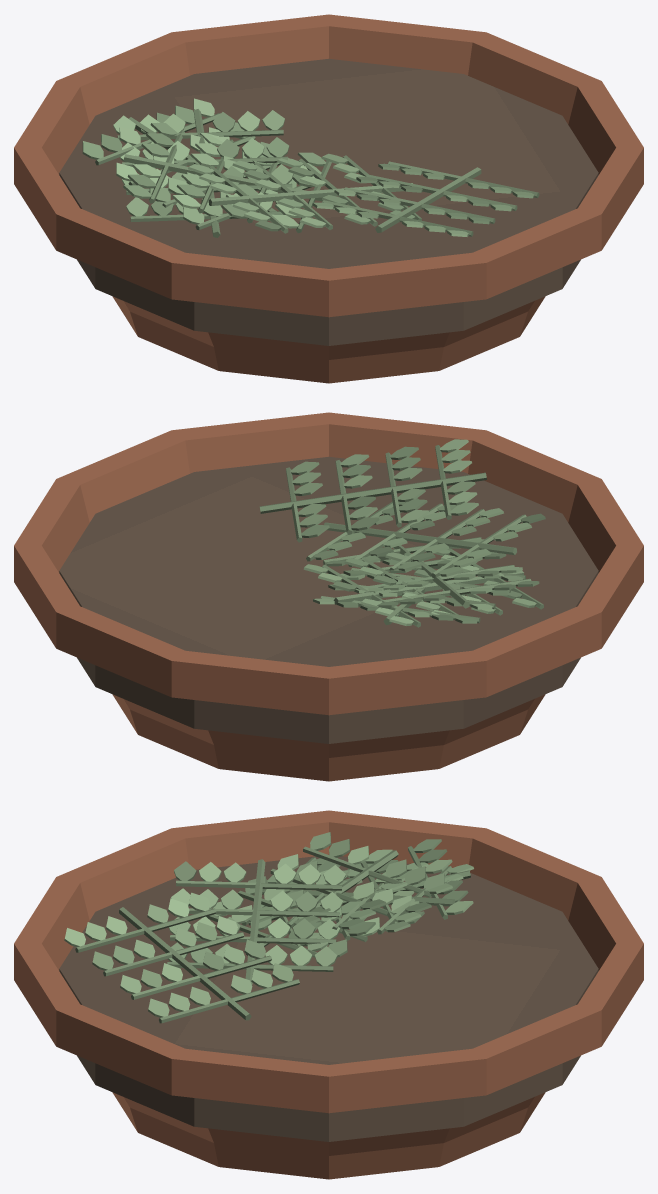
Rendered from moss-cupressiforme.glb.
3 renders of one model, top to bottom at view 1: azimuth 30°, elevation 25°; view 2: azimuth 150°, elevation 25°; view 3: azimuth 270°, elevation 25°, orthographic.
Parts seen in each view (by area): view 1: moss-cupressiforme/review-terra-vessel, moss-cupressiforme/review-rooted-soil, moss-cupressiforme/moss-axis-100, moss-cupressiforme/moss-axis-133, moss-cupressiforme/moss-axis-067; view 2: moss-cupressiforme/review-terra-vessel, moss-cupressiforme/review-rooted-soil, moss-cupressiforme/moss-axis-133, moss-cupressiforme/moss-axis-100, moss-cupressiforme/moss-axis-001; view 3: moss-cupressiforme/review-terra-vessel, moss-cupressiforme/review-rooted-soil, moss-cupressiforme/moss-axis-133, moss-cupressiforme/moss-axis-100, moss-cupressiforme/moss-axis-067.
Boxes of the visible parts, <box> form: moss-cupressiforme/review-terra-vessel: <box>14,14,643,383</box>; moss-cupressiforme/review-rooted-soil: <box>59,58,598,345</box>; moss-cupressiforme/moss-axis-100: <box>208,183,412,205</box>; moss-cupressiforme/moss-axis-133: <box>375,167,481,232</box>; moss-cupressiforme/moss-axis-067: <box>123,154,347,204</box>; moss-cupressiforme/review-terra-vessel: <box>14,412,643,781</box>; moss-cupressiforme/review-rooted-soil: <box>59,456,598,743</box>; moss-cupressiforme/moss-axis-133: <box>259,472,486,513</box>; moss-cupressiforme/moss-axis-100: <box>324,522,516,555</box>; moss-cupressiforme/moss-axis-001: <box>334,570,523,604</box>; moss-cupressiforme/review-terra-vessel: <box>14,810,643,1179</box>; moss-cupressiforme/review-rooted-soil: <box>59,854,598,1141</box>; moss-cupressiforme/moss-axis-133: <box>119,907,251,1020</box>; moss-cupressiforme/moss-axis-100: <box>245,859,265,985</box>; moss-cupressiforme/moss-axis-067: <box>246,850,398,955</box>.
Size of the model in its own units: 0.25 by 0.0677 by 0.25.
Materials: 3 (3 with a texture image).
